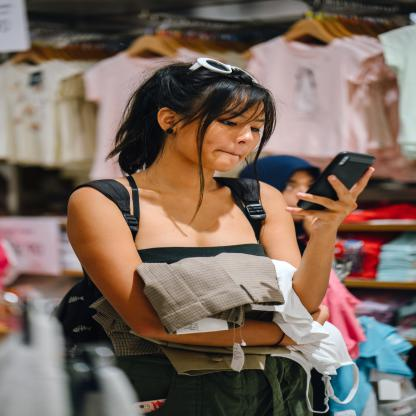Eye: (214, 115, 242, 130), (245, 124, 268, 136)
Mouth: (212, 147, 246, 162)
Nose: (234, 129, 255, 147)
